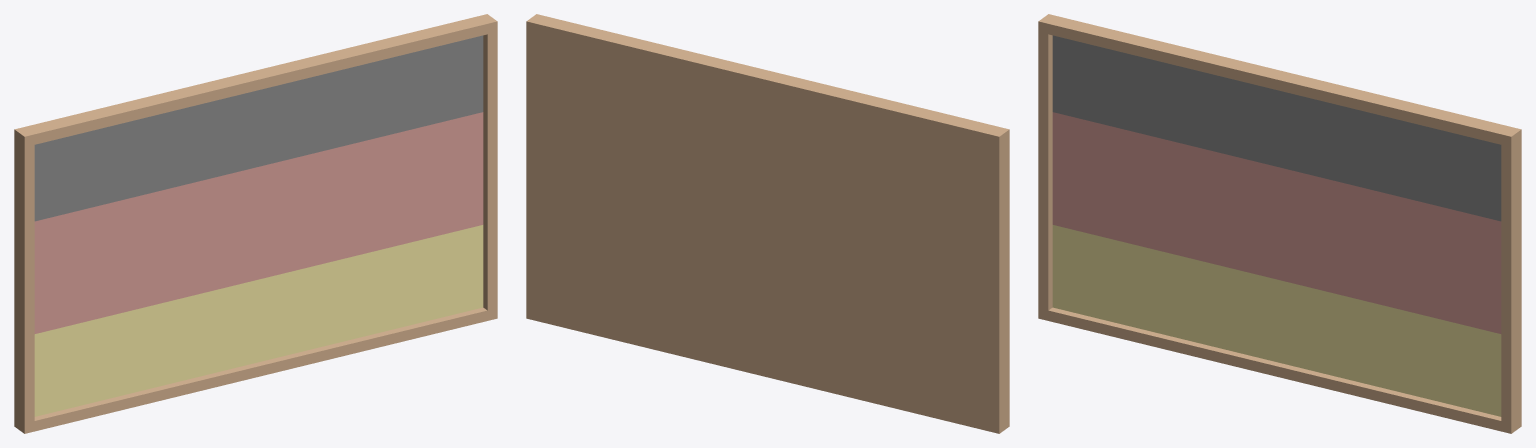
Rendered from picture6.fbx.
The picture shows the model from 3 angles, left to right: view 1: azimuth 30°, elevation 25°; view 2: azimuth 150°, elevation 25°; view 3: azimuth 330°, elevation 25°; orthographic projection.
Parts seen in each view (by area): view 1: Cube_23; view 2: Cube_23; view 3: Cube_23.
Part boxes in pixels (x1,y1,x2,y2): Cube_23: [14, 14, 497, 433]; Cube_23: [526, 14, 1009, 433]; Cube_23: [1038, 14, 1521, 433].
Bounding box in the file's own units: 42.49 × 25.51 × 1.58.
